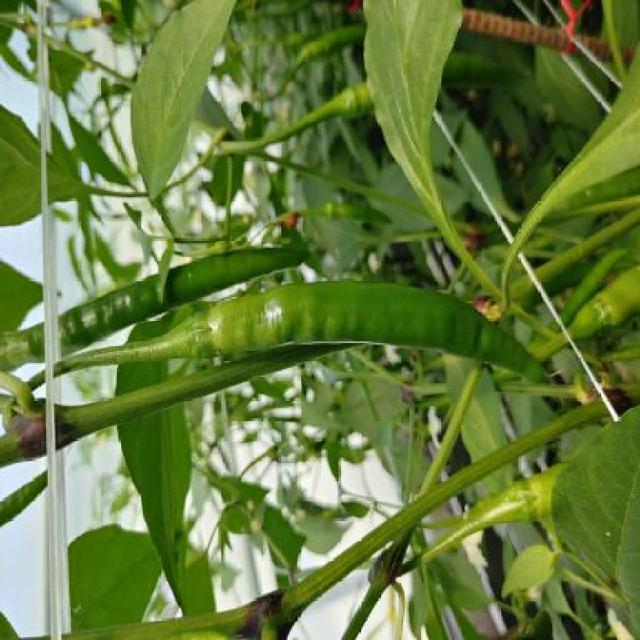green chilli: (158, 280, 551, 392)
